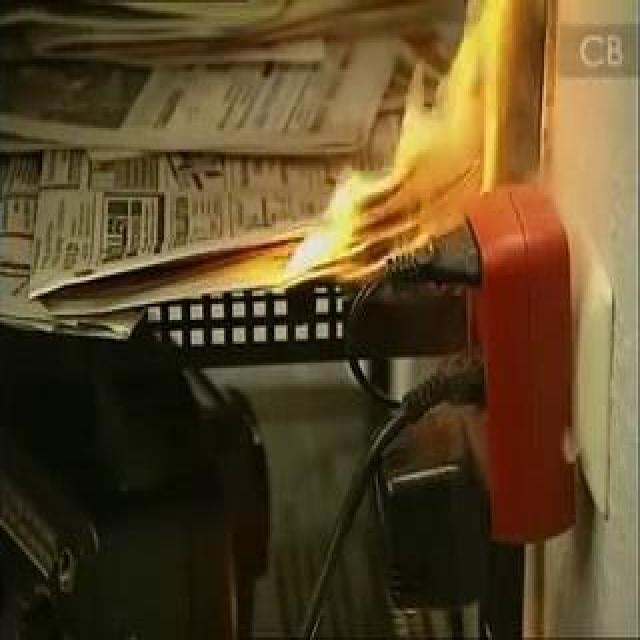Fire: (293, 23, 498, 266)
